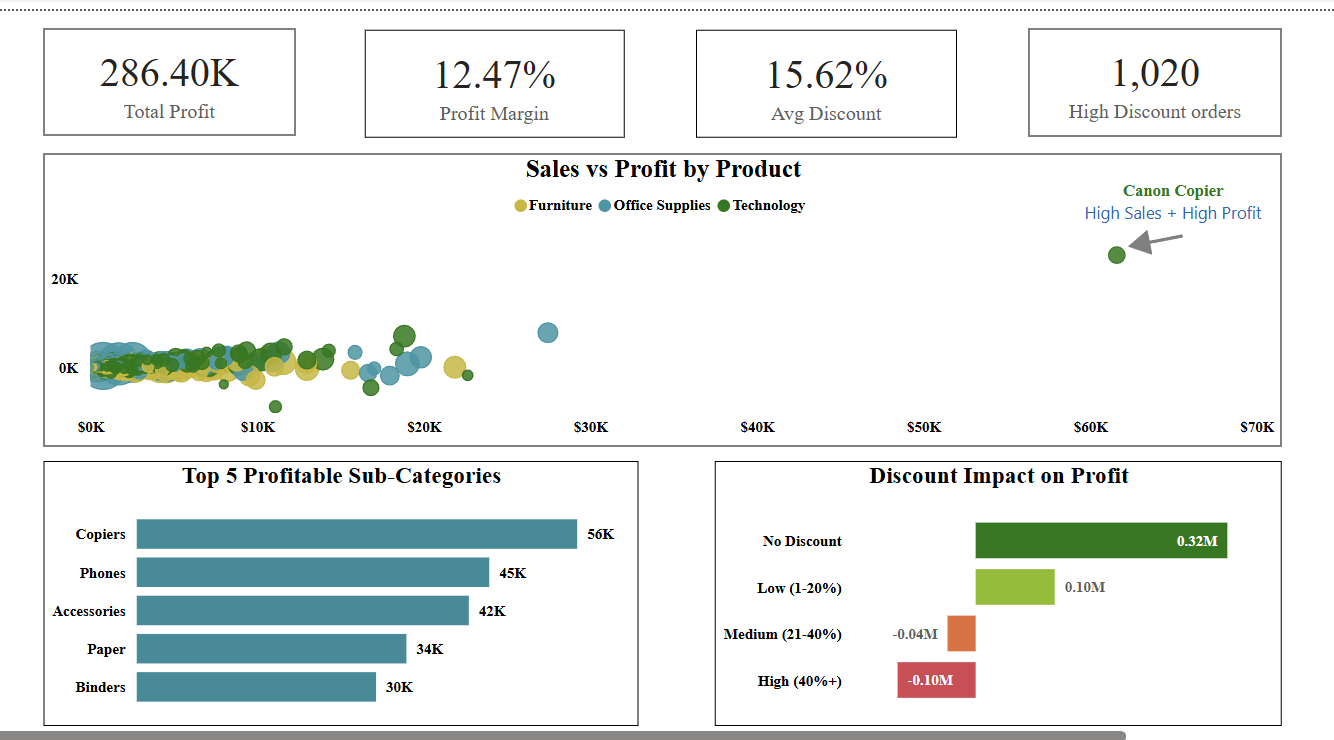

The dashboard page shown, as its layout file describes it:
{"tool":"powerbi","page":{"name":"Profit Analysis ","canvas":[1280,720],"ordinal":1},"visuals":[{"type":"card","fields":{"Values":["All Measures.Total Profit"]},"box":[42,14,202,86],"z":0},{"type":"card","fields":{"Values":["All Measures.Profit Margine_%"]},"box":[299,15,208,87],"z":1000},{"type":"card","fields":{"Values":["All Measures.Avg Discount"]},"box":[564,15,209,87],"z":2000},{"type":"card","fields":{"Values":["All Measures.High Discount orders"]},"box":[830,14,203,87],"z":3000},{"type":"scatterChart","title":"Sales vs Profit by Product","fields":{"Y":["All Measures.Total Profit"],"X":["All Measures.Total Sales"],"Category":["Orders.Product Name"],"Series":["Orders.Category"],"Size":["All Measures.Total Qty"]},"box":[42,114,991,235],"z":4000},{"type":"barChart","title":"Top 5 Profitable Sub-Categories","fields":{"Category":["Orders.Sub-Category"],"Y":["Sum(Orders.Profit)"]},"box":[42,360,476,212],"z":5000},{"type":"clusteredBarChart","title":"Discount Impact on Profit","fields":{"Y":["All Measures.Total Profit"],"Category":["Orders.Discount Band"]},"box":[579,360,454,212],"z":6000},{"type":"textbox","box":[866,129,160,46],"z":7000},{"type":"shape","box":[897,175,69,20],"z":8000}]}

Visuals, with their boxes in screenshot pixels (x1, y1, x2, y2), scaled from the page's 1280x720 canvas onto the 1334x740 screenshot:
card - All Measures.Total Profit: 44,14,254,103
card - All Measures.Profit Margine_%: 312,15,528,105
card - All Measures.Avg Discount: 588,15,806,105
card - All Measures.High Discount orders: 865,14,1077,104
"Sales vs Profit by Product" scatterChart: 44,117,1077,359
"Top 5 Profitable Sub-Categories" barChart: 44,370,540,588
"Discount Impact on Profit" clusteredBarChart: 603,370,1077,588
textbox: 903,133,1069,180
shape: 935,180,1007,200
